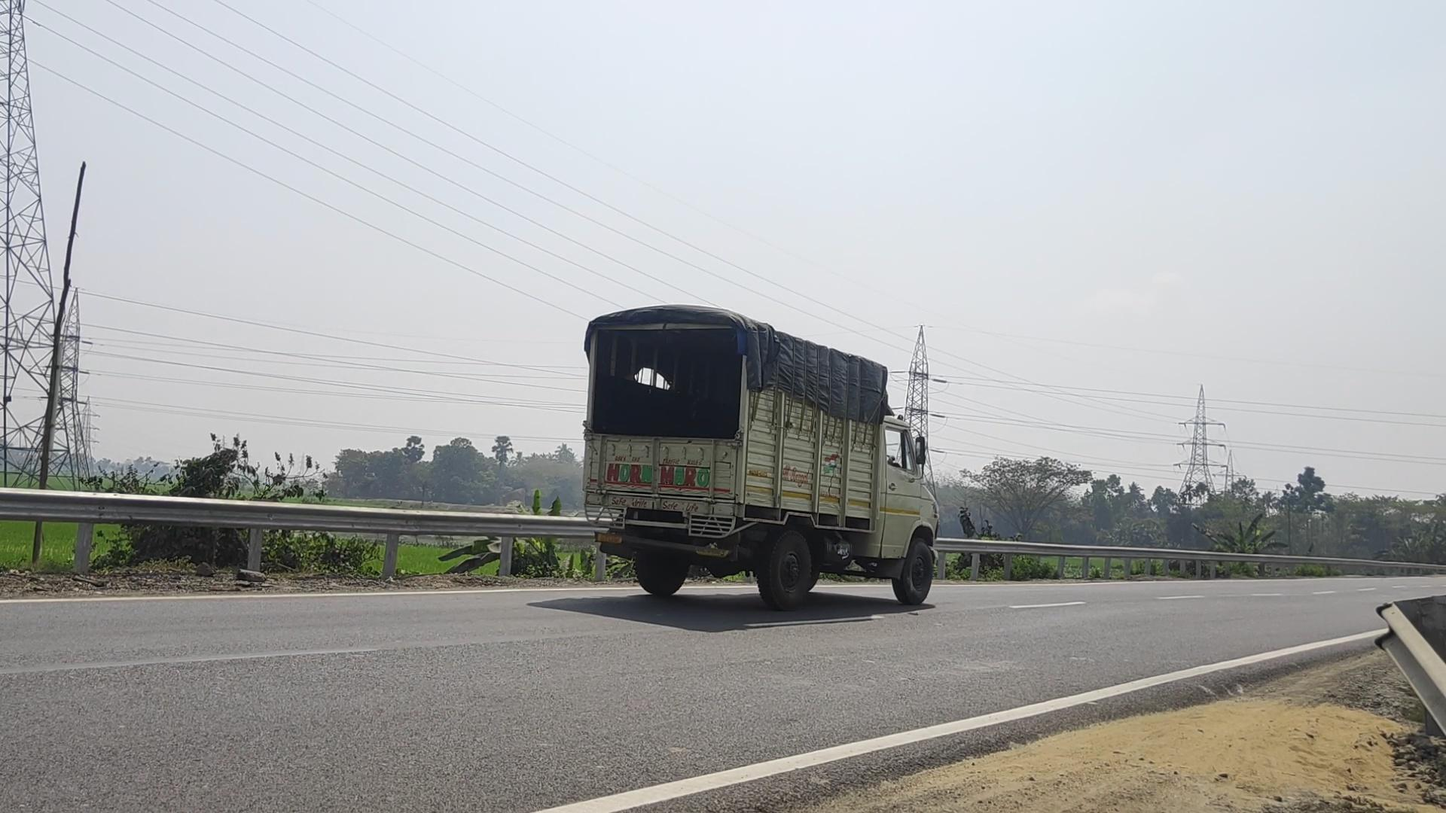truck: (583, 304, 940, 611)
